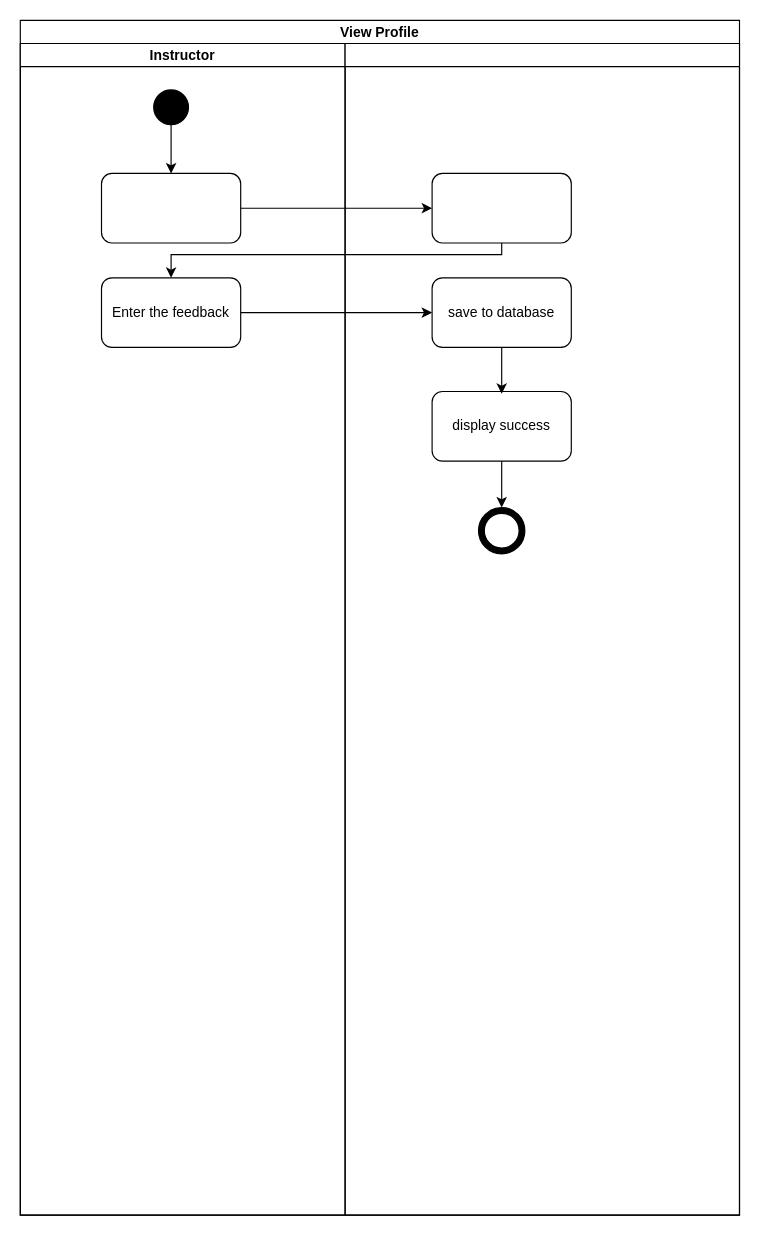
The diagram is 760 pixels wide and 1235 high, and some of its shapes have lost their labels. Each missing label, with the box of its shape:
click to submit feedback: (100, 172, 241, 243)
Prompt for feedback: (431, 172, 571, 243)
System: (344, 42, 740, 1215)
